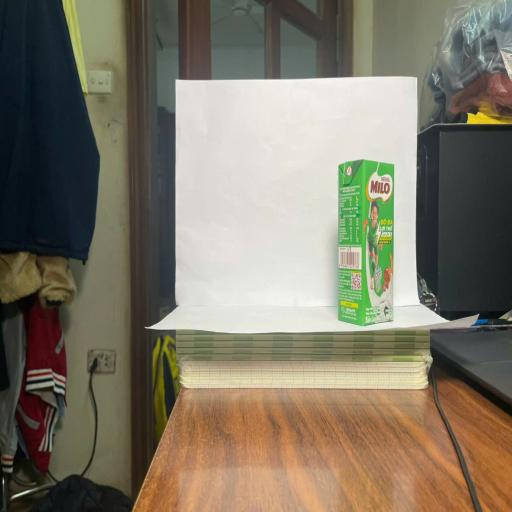milo: (338, 160, 394, 326)
